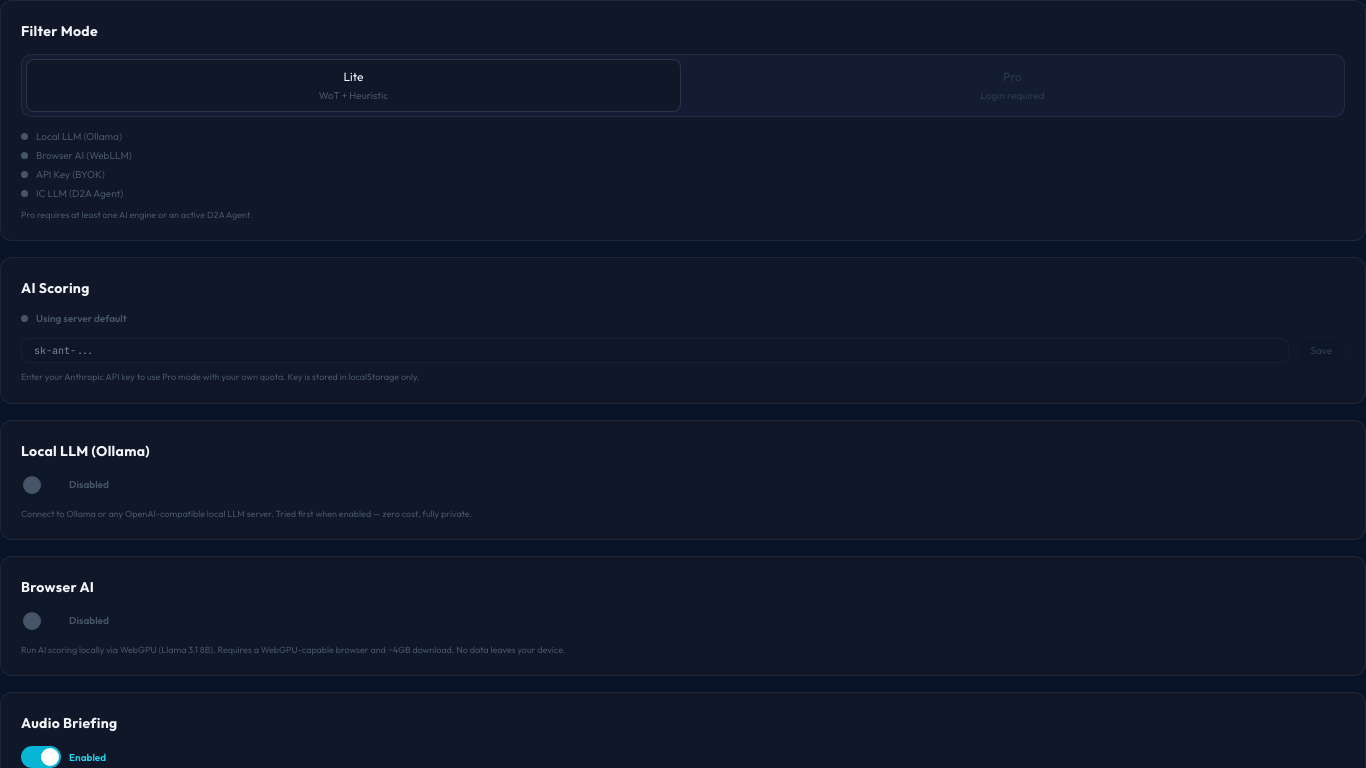
it: FeedSection — Ollama toggle and interactions › shows Enabled text after toggle
The image size is (1366, 768).
Click the button with test id "aegis-settings-ollama-toggle": [41, 484] box [21,474,61,496]
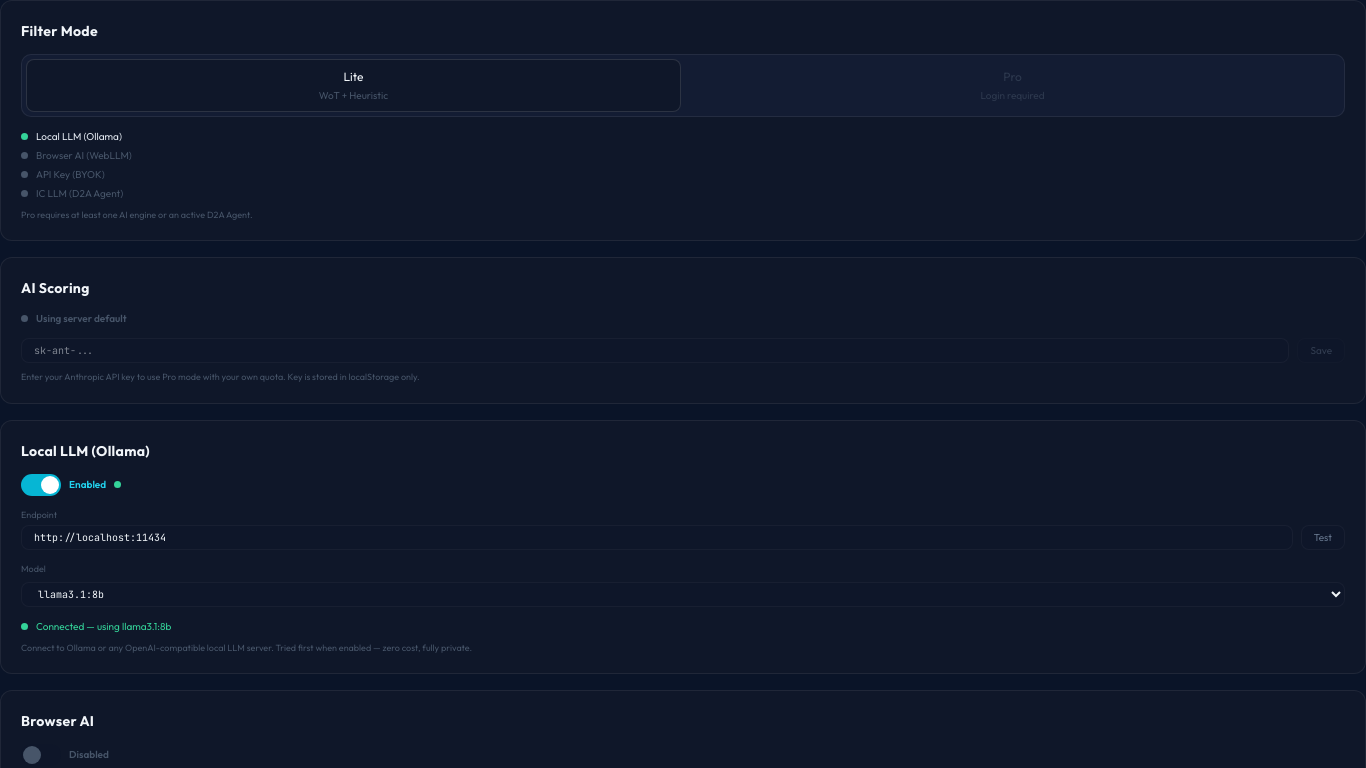
Expected: the text "Enabled" is shown, [69,477,106,492]
